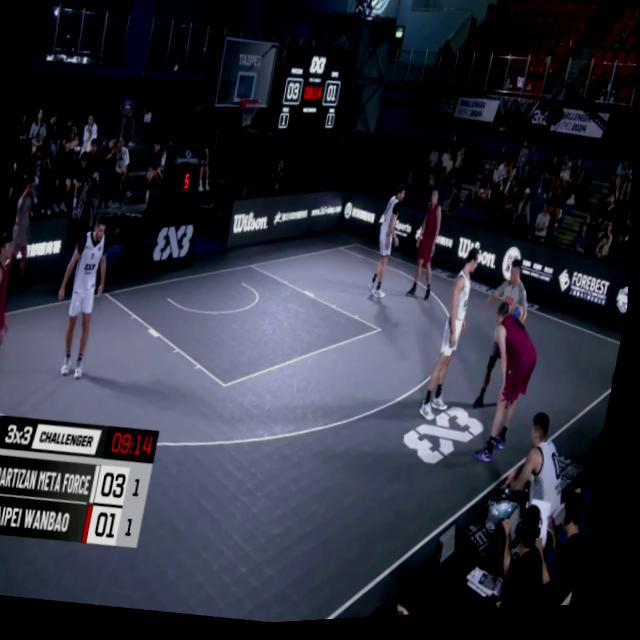ball: (513, 306, 531, 333)
hoop: (235, 96, 264, 135)
player: (470, 306, 549, 475), (46, 208, 121, 382), (422, 254, 481, 420), (0, 229, 38, 425), (366, 184, 410, 307), (406, 190, 451, 309)
